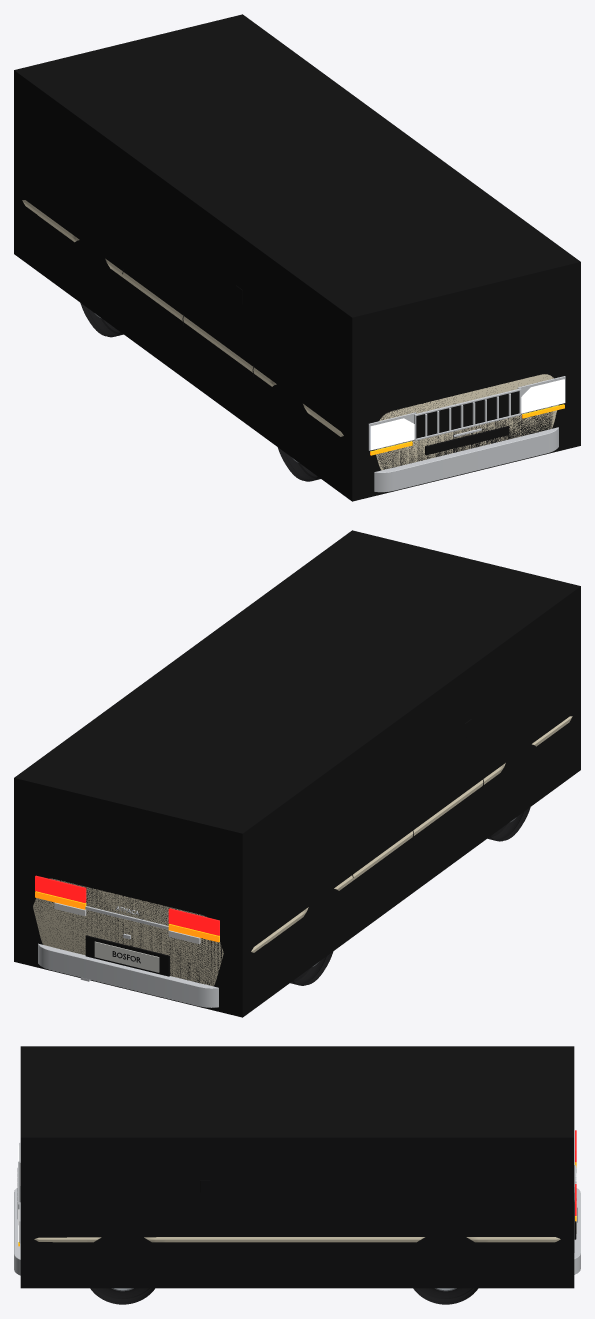
Rendered from atmaca_stock_lod0.glb.
3 views of the same model, one above another, from view 1: azimuth 30°, elevation 25°; view 2: azimuth 150°, elevation 25°; view 3: azimuth 270°, elevation 25° (orthographic). The views are drawn at different scales.
Visible parts, largest first — view 1: col_body, trim, body, lights_front; view 2: col_body, body, trim, lights_rear, plate_rear; view 3: col_body, body, trim, wheel_RL, wheel_FL.
Boxes of the visible parts, box(x1,y1,x2,y2) form: col_body: box(14, 14, 580, 501); trim: box(122, 269, 565, 492); body: box(22, 200, 558, 470); lights_front: box(370, 379, 564, 455); col_body: box(14, 530, 580, 1017); body: box(33, 716, 572, 986); trim: box(38, 719, 483, 1007); lights_rear: box(35, 875, 219, 944); plate_rear: box(94, 941, 159, 972); col_body: box(20, 1046, 574, 1288); body: box(34, 1237, 560, 1242); trim: box(14, 1143, 580, 1275); wheel_RL: box(413, 1288, 478, 1304); wheel_FL: box(90, 1288, 154, 1304).
Size of the model in its own units: 1.66 by 1.43 by 4.3.
